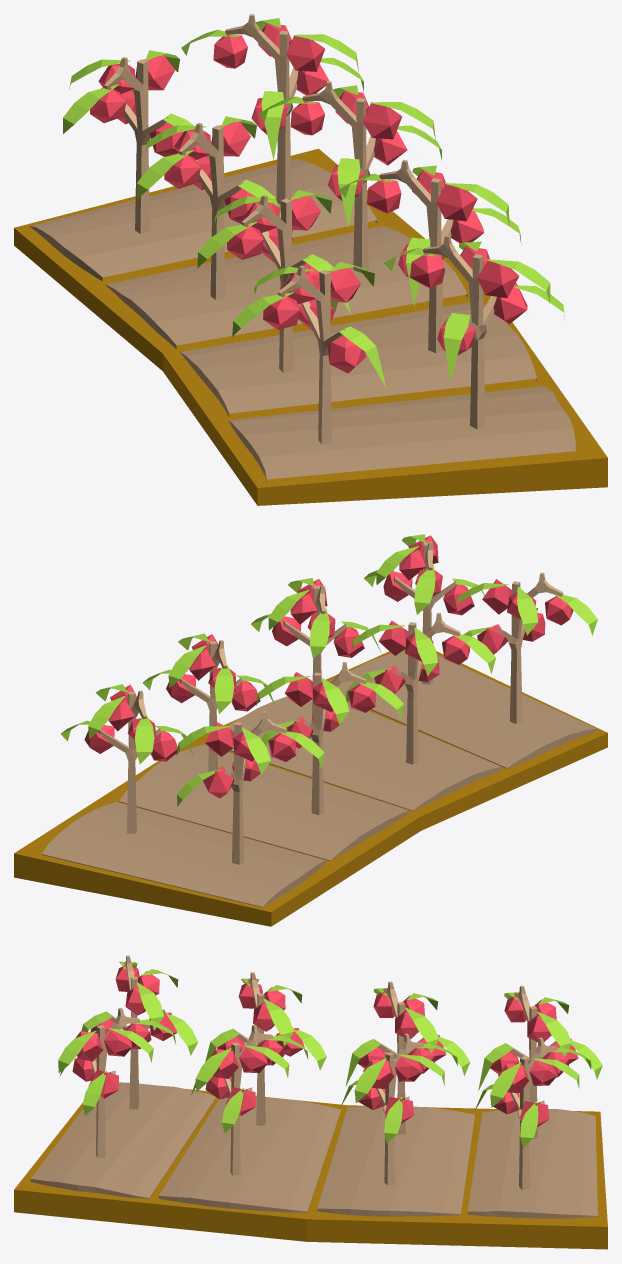
The model's file is outercircle-planted2.fbx.
3 renders of one model, top to bottom at view 1: azimuth 30°, elevation 25°; view 2: azimuth 150°, elevation 25°; view 3: azimuth 270°, elevation 25°, orthographic. The views are drawn at different scales.
Visible parts, largest first — view 1: Cylinder.043, Vert.018, Vert.017, Vert.014, Vert.012, Vert.016, Vert.013, Vert.006, Vert.015; view 2: Cylinder.043, Vert.006, Vert.015, Vert.017, Vert.013, Vert.012, Vert.014, Vert.018, Vert.016; view 3: Cylinder.043, Vert.018, Vert.016, Vert.014, Vert.012, Vert.015, Vert.017, Vert.006, Vert.013.
Part boxes in pixels (<box>): Cylinder.043: <box>14,148,607,505</box>; Vert.018: <box>383,235,564,429</box>; Vert.017: <box>232,261,386,444</box>; Vert.014: <box>259,81,441,272</box>; Vert.012: <box>181,14,363,204</box>; Vert.016: <box>338,159,521,353</box>; Vert.013: <box>137,116,280,299</box>; Vert.006: <box>63,50,194,234</box>; Vert.015: <box>197,190,351,372</box>; Cylinder.043: <box>14,649,607,926</box>; Vert.006: <box>176,711,324,864</box>; Vert.015: <box>346,612,495,764</box>; Vert.017: <box>456,572,597,723</box>; Vert.013: <box>256,662,403,815</box>; Vert.012: <box>61,684,193,833</box>; Vert.014: <box>142,633,275,771</box>; Vert.018: <box>364,534,493,684</box>; Vert.016: <box>251,578,381,724</box>; Cylinder.043: <box>14,1082,607,1249</box>; Vert.018: <box>58,1008,175,1158</box>; Vert.016: <box>191,1024,308,1175</box>; Vert.014: <box>340,1033,457,1185</box>; Vert.012: <box>474,1037,591,1189</box>; Vert.015: <box>205,972,326,1125</box>; Vert.017: <box>81,955,197,1109</box>; Vert.006: <box>478,985,602,1138</box>; Vert.013: <box>345,981,470,1134</box>.
Bounding box in the file's own units: 1407 × 754 × 2389.
